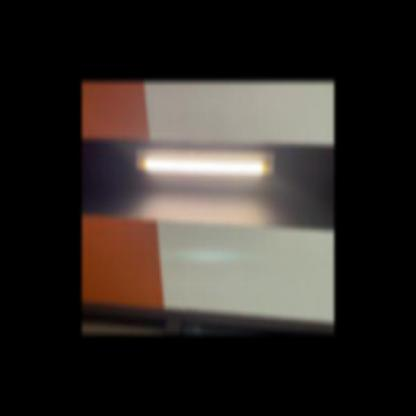light_on: (132, 138, 278, 186)
